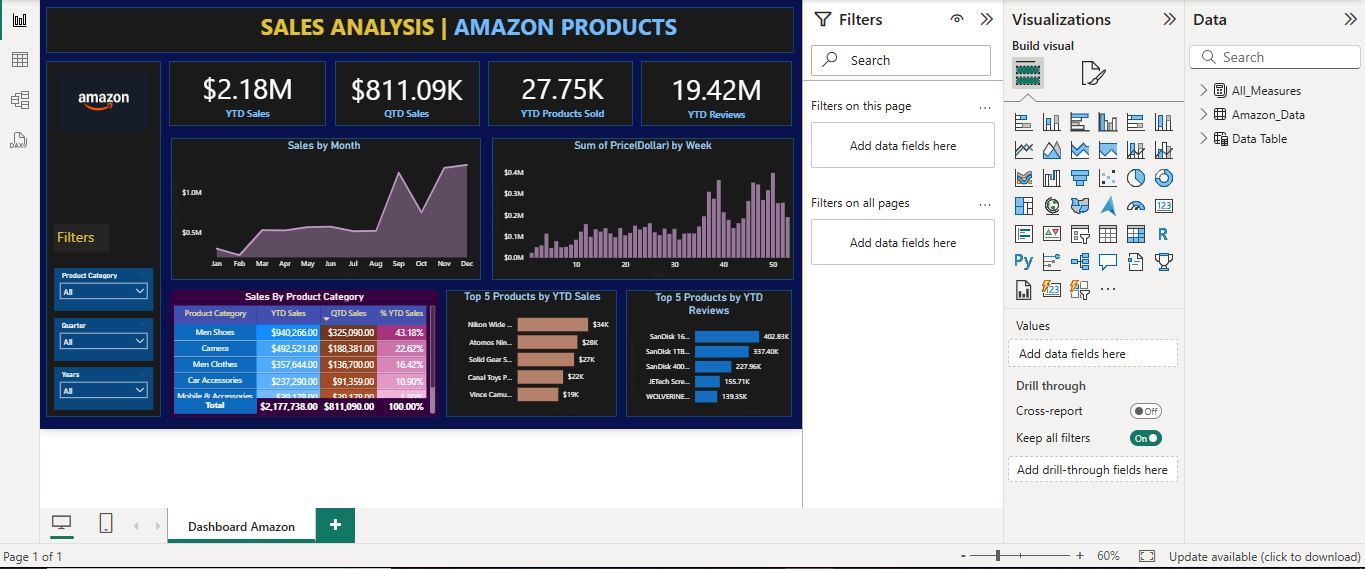

The page's visual inventory and layout, read from the dashboard file:
{"tool":"powerbi","page":{"name":"Dashboard Amazon","canvas":[1280,720],"ordinal":0},"visuals":[{"type":"shape","box":[10.1,11.8,1256.5,77.3],"z":0},{"type":"shape","box":[10.1,102.5,193.2,598],"z":1000},{"type":"textbox","box":[346,13.4,749.2,62.2],"z":2000},{"type":"shape","box":[216.7,102.5,263.7,109.2],"z":3000,"group":"g1"},{"type":"group","id":"g1","title":"Group 1","box":[216.7,102.5,1046.5,110.9],"z":3000},{"type":"card","fields":{"Values":["All_Measures.YTD Sales"]},"box":[216.7,104.2,263.7,107.5],"z":4000,"group":"g1"},{"type":"shape","box":[220.1,231.8,520.7,238.5],"z":4000},{"type":"shape","box":[752.6,102.5,243.6,109.2],"z":5000,"group":"g1"},{"type":"areaChart","title":"Sales by Month","fields":{"Category":["Data Table.Month_Name"],"Y":["Sum(Amazon_Data.Price(Dollar))"]},"box":[216.7,233.5,520.7,236.9],"z":5000},{"type":"shape","box":[1009.6,102.5,253.6,109.2],"z":6000,"group":"g1"},{"type":"shape","box":[759.3,231.8,507.3,238.5],"z":6000},{"type":"shape","box":[495.5,102.5,243.6,109.2],"z":7000,"group":"g1"},{"type":"columnChart","fields":{"Y":["Sum(Amazon_Data.Price(Dollar))"],"Category":["Data Table.Week"]},"box":[757.6,233.5,510.7,238.5],"z":7000},{"type":"card","fields":{"Values":["All_Measures.QTD Sales"]},"box":[494.7,105,243.6,105.8],"z":8000,"group":"g1"},{"type":"shape","box":[220.1,487.1,448.5,213.3],"z":8000},{"type":"card","fields":{"Values":["All_Measures.YTD Products Sold"]},"box":[755.8,103.6,243.6,107.5],"z":9000,"group":"g1"},{"type":"pivotTable","title":"Sales By Product Category","fields":{"Rows":["Amazon_Data.Product Category"],"Values":["All_Measures.YTD Sales","All_Measures.QTD Sales","Divide(All_Measures.YTD Sales, ScopedEval(All_Measures.YTD Sales, []))"]},"box":[220.1,487.1,448.5,213.3],"z":9000},{"type":"card","fields":{"Values":["All_Measures.YTD Reviews"]},"box":[1009.6,105.9,253.6,107.5],"z":10000,"group":"g1"},{"type":"shape","box":[682,487.1,287.2,213.3],"z":10000},{"type":"shape","box":[984.4,487.1,278.8,213.3],"z":11000},{"type":"clusteredBarChart","title":"Top 5 Products by YTD Sales","fields":{"Y":["All_Measures.YTD Sales"],"Category":["Amazon_Data.Product Description"]},"box":[685.4,487.1,283.9,213.3],"z":12000},{"type":"clusteredBarChart","title":"Top 5 Products by YTD Reviews","fields":{"Category":["Amazon_Data.Product Description"],"Y":["All_Measures.YTD Reviews"]},"box":[984,489.5,279.2,211.9],"z":13000},{"type":"slicer","fields":{"Values":["Amazon_Data.Product Category"]},"box":[22.7,450.7,167.2,72.3],"z":14000},{"type":"slicer","fields":{"Values":["Data Table.Quarter"]},"box":[22.7,534.3,167.2,72.3],"z":15000},{"type":"slicer","fields":{"Values":["Data Table.Year"]},"box":[22.7,616.5,167.2,72.3],"z":16000},{"type":"textbox","box":[23.3,376.7,93.3,48.3],"z":17000},{"type":"image","box":[23.3,106.7,166.7,126.7],"z":18000}]}

Visuals, with their boxes on the page's 1280x720 design canvas (x1, y1, x2, y2). These are canvas units, not pixel positions in the 1365x569 screenshot, which may show the page scaled, cropped or inside an application window:
shape: rect(10, 12, 1267, 89)
shape: rect(10, 102, 203, 700)
textbox: rect(346, 13, 1095, 76)
shape: rect(217, 102, 480, 212)
"Group 1" group: rect(217, 102, 1263, 213)
card - All_Measures.YTD Sales: rect(217, 104, 480, 212)
shape: rect(220, 232, 741, 470)
shape: rect(753, 102, 996, 212)
"Sales by Month" areaChart: rect(217, 234, 737, 470)
shape: rect(1010, 102, 1263, 212)
shape: rect(759, 232, 1267, 470)
shape: rect(496, 102, 739, 212)
columnChart - Sum(Amazon_Data.Price(Dollar)) x Data Table.Week: rect(758, 234, 1268, 472)
card - All_Measures.QTD Sales: rect(495, 105, 738, 211)
shape: rect(220, 487, 669, 700)
card - All_Measures.YTD Products Sold: rect(756, 104, 999, 211)
"Sales By Product Category" pivotTable: rect(220, 487, 669, 700)
card - All_Measures.YTD Reviews: rect(1010, 106, 1263, 213)
shape: rect(682, 487, 969, 700)
shape: rect(984, 487, 1263, 700)
"Top 5 Products by YTD Sales" clusteredBarChart: rect(685, 487, 969, 700)
"Top 5 Products by YTD Reviews" clusteredBarChart: rect(984, 490, 1263, 701)
slicer - Amazon_Data.Product Category: rect(23, 451, 190, 523)
slicer - Data Table.Quarter: rect(23, 534, 190, 607)
slicer - Data Table.Year: rect(23, 616, 190, 689)
textbox: rect(23, 377, 117, 425)
image: rect(23, 107, 190, 233)
